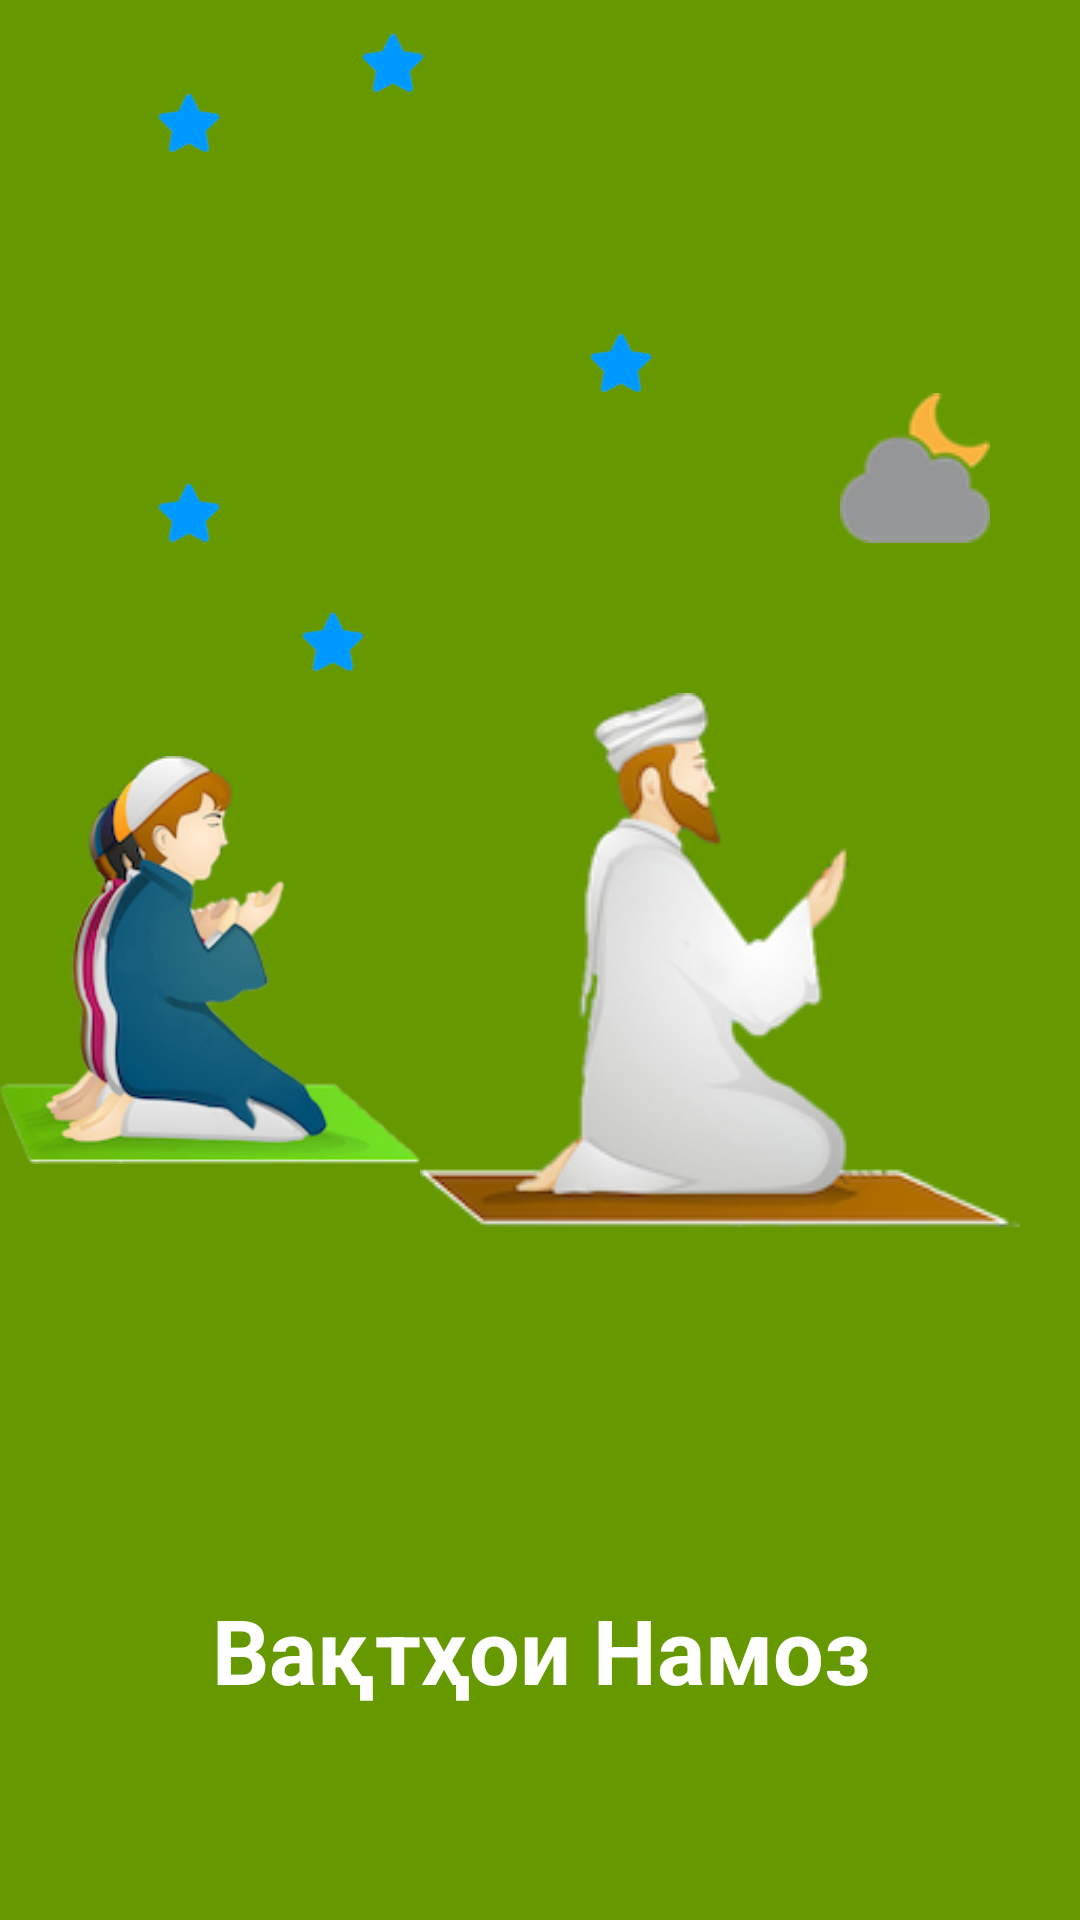

Icons on this 1080w x 1920h Android screen, each with its box as (x1, y1, x2, y2):
intro cloud: (840, 393, 990, 543)
intro star: (363, 34, 423, 92), (159, 94, 219, 152), (591, 334, 651, 392), (159, 484, 219, 542), (303, 613, 363, 671)
